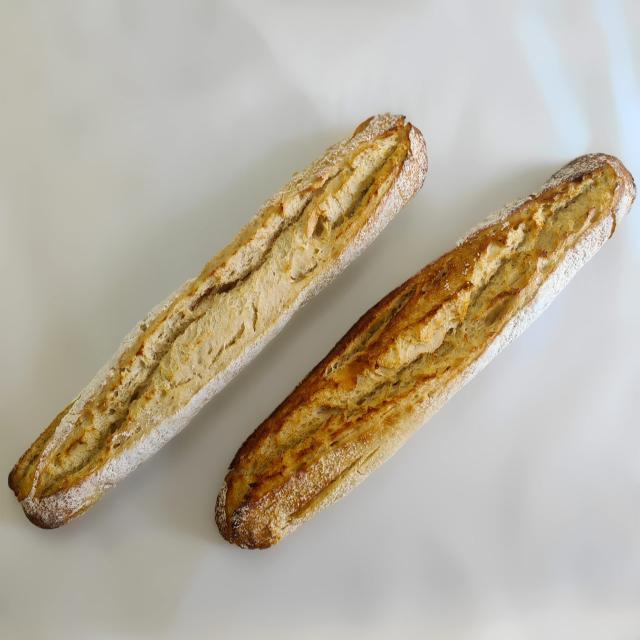Baguette: (8, 114, 426, 528), (216, 155, 634, 548)
